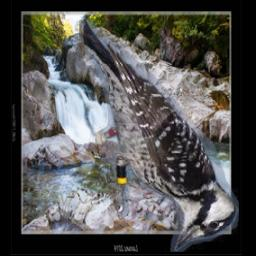Woodpecker: (78, 21, 238, 253)
